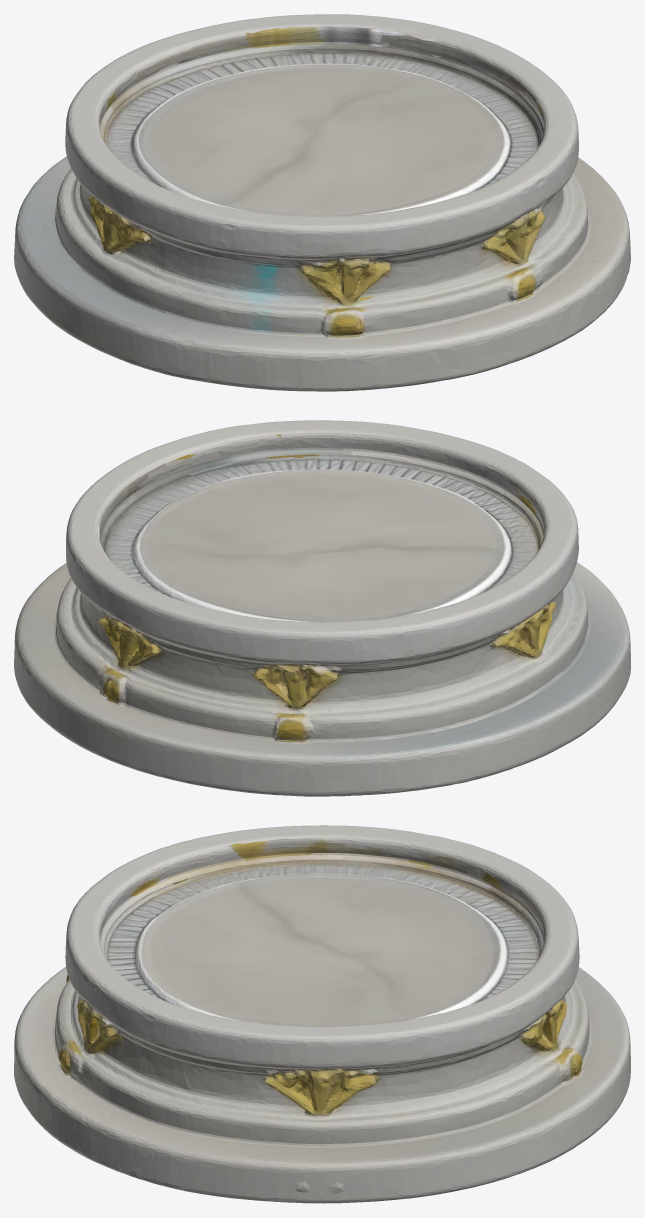
File: hero_marble_pedestal.glb
The picture shows the model from 3 angles, top to bottom: view 1: azimuth 30°, elevation 25°; view 2: azimuth 150°, elevation 25°; view 3: azimuth 270°, elevation 25°; orthographic projection.
Visible parts, largest first — view 1: tmp1ssog5xn.ply; view 2: tmp1ssog5xn.ply; view 3: tmp1ssog5xn.ply.
Boxes of the visible parts, x1=… form: tmp1ssog5xn.ply: x1=14, y1=14, x2=630, y2=391; tmp1ssog5xn.ply: x1=14, y1=420, x2=630, y2=796; tmp1ssog5xn.ply: x1=14, y1=825, x2=630, y2=1203.
Size of the model in its own units: 1.99 by 0.5166 by 1.99.
1 material, 1 textured.
